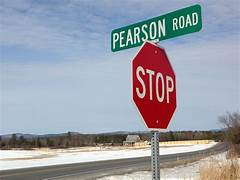stop: (132, 42, 176, 131)
